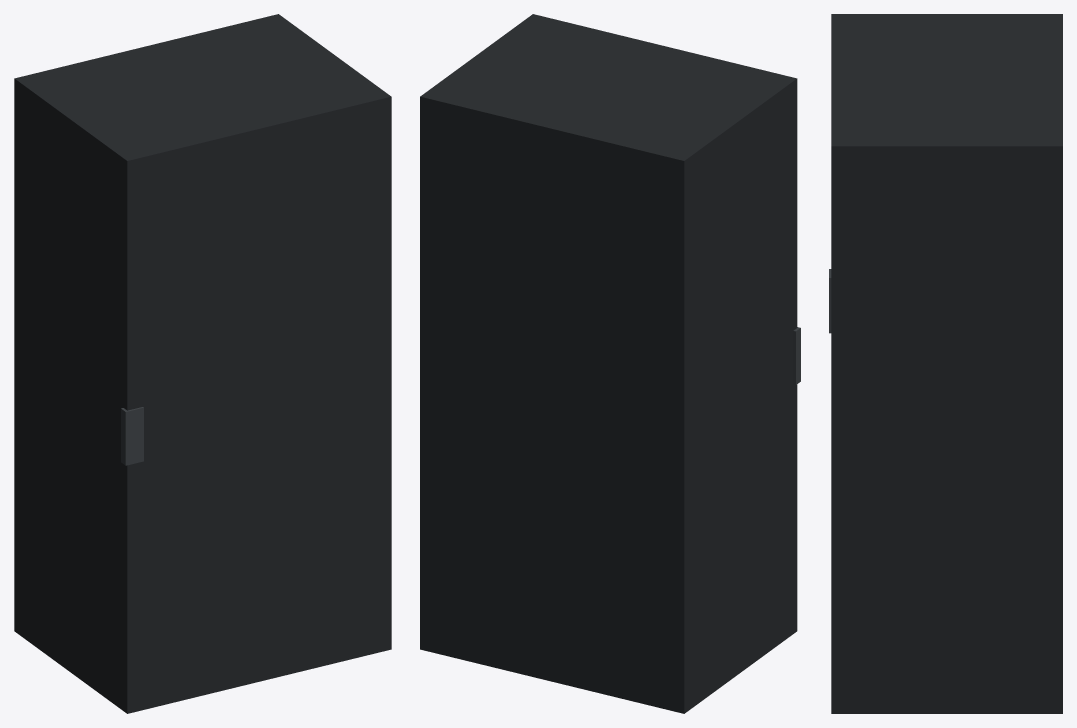
File: dryingcabinetsmall_01_E.gltf
3 views of the same model, side by side, from view 1: azimuth 30°, elevation 25°; view 2: azimuth 150°, elevation 25°; view 3: azimuth 270°, elevation 25° (orthographic). The views are drawn at different scales.
Visible parts, largest first — view 1: Doordryingcabinetsmall_01_E, dryingcabinetsmall_01_E; view 2: dryingcabinetsmall_01_E, Doordryingcabinetsmall_01_E; view 3: dryingcabinetsmall_01_E, Doordryingcabinetsmall_01_E.
Boxes of the visible parts, box(x1,y1,x2,y2) form: Doordryingcabinetsmall_01_E: box(120, 92, 391, 713); dryingcabinetsmall_01_E: box(14, 14, 384, 708); dryingcabinetsmall_01_E: box(420, 18, 790, 713); Doordryingcabinetsmall_01_E: box(527, 14, 800, 635); dryingcabinetsmall_01_E: box(843, 14, 1062, 713); Doordryingcabinetsmall_01_E: box(829, 14, 844, 713).
Size of the model in its own units: 1.01 by 2 by 0.7471.
1 material, 1 textured.
